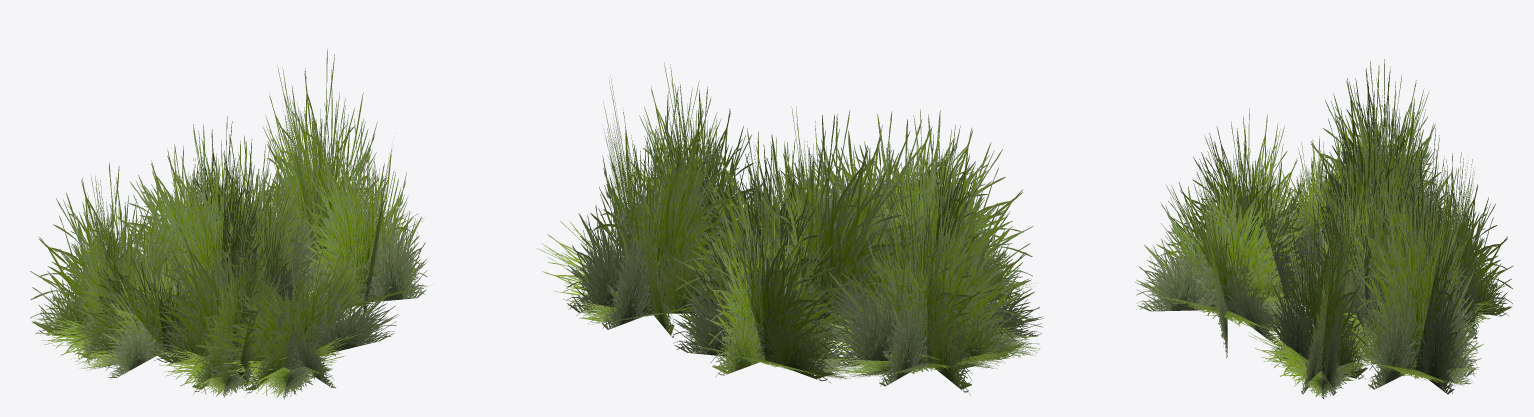
The model's file is GrassLOD.fbx.
The picture shows the model from 3 angles, left to right: view 1: azimuth 30°, elevation 25°; view 2: azimuth 150°, elevation 25°; view 3: azimuth 270°, elevation 25°; orthographic projection. The views are drawn at different scales.
Parts seen in each view (by area): view 1: Grass1_LOD0; view 2: Grass1_LOD0; view 3: Grass1_LOD0.
Boxes of the visible parts, x1,y1,x2,y2 form: Grass1_LOD0: (30,49,427,399); Grass1_LOD0: (537,62,1043,395); Grass1_LOD0: (1135,59,1513,399).
Size of what is drawn, in the model's own units: 6.4 by 3.08 by 4.42.
